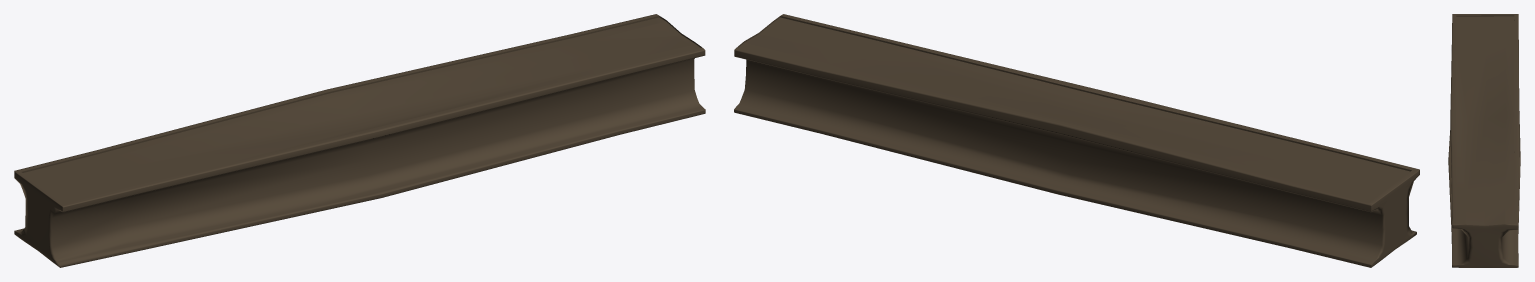
The model's file is Pigum.fbx.
3 views of the same model, side by side, from view 1: azimuth 30°, elevation 25°; view 2: azimuth 150°, elevation 25°; view 3: azimuth 270°, elevation 25° (orthographic). The views are drawn at different scales.
Visible parts, largest first — view 1: pCube1; view 2: pCube1; view 3: pCube1.
Part boxes in pixels (<box>): pCube1: <box>14,14,705,267</box>; pCube1: <box>734,14,1419,267</box>; pCube1: <box>1448,14,1520,267</box>.
Bounding box in the file's own units: 247 × 28.3 × 35.82.
